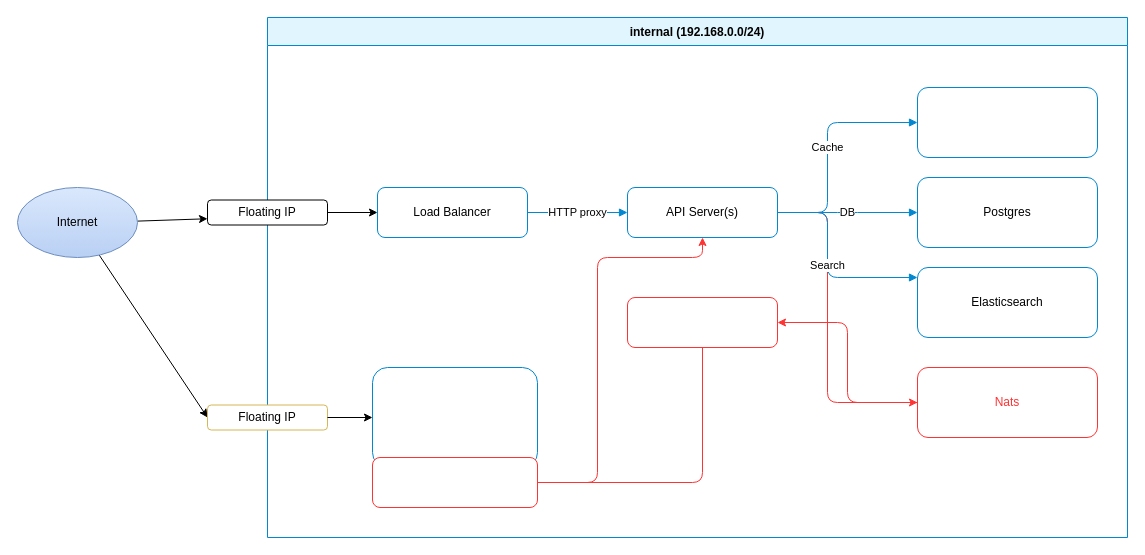
Image size: 1145x555. Some labels were removed from this diagram. Each missing label, with the box of its shape:
Autoscaler: (372, 456, 538, 508)
Consumers: (626, 296, 778, 348)
Monitoring (SSH proxy jump, prometheus, grafana): (372, 366, 538, 468)
Valkey: (916, 86, 1098, 158)
